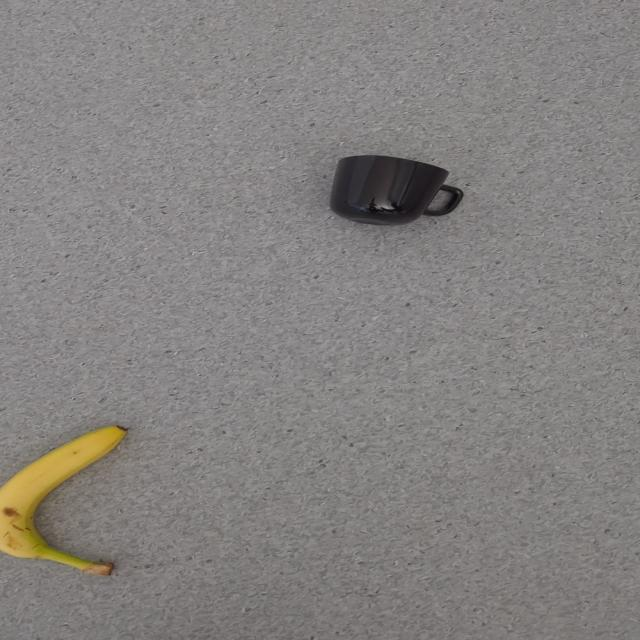banana: (0, 424, 129, 576)
mug: (328, 154, 463, 226)
